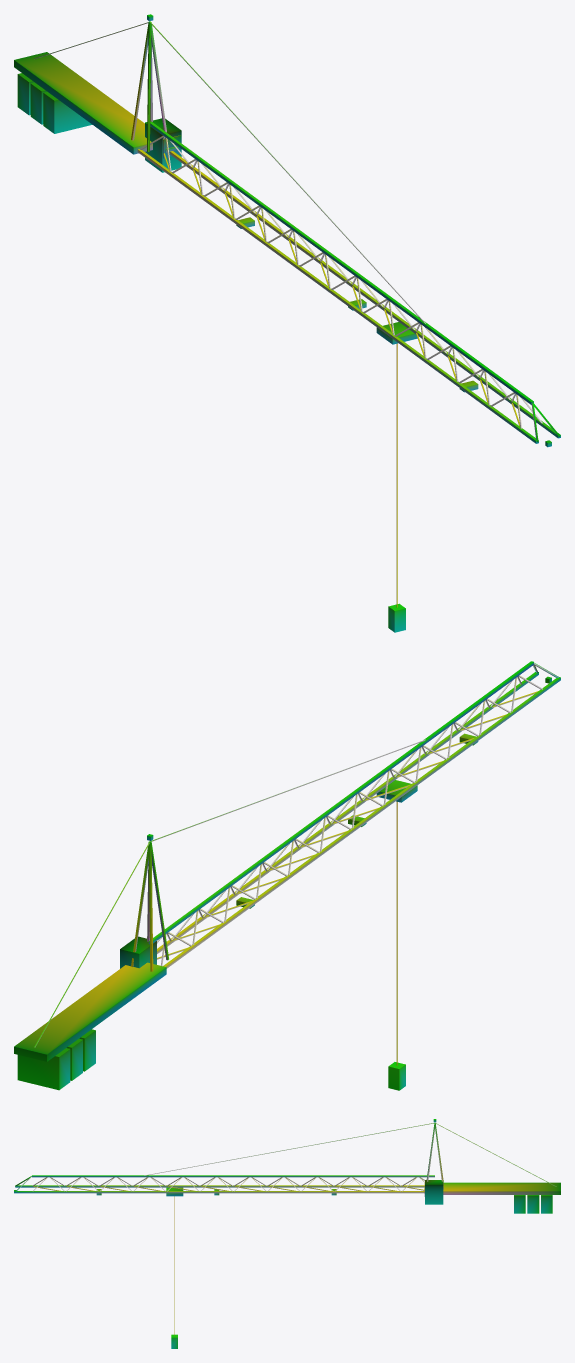
Rendered from Crane_Jib.fbx.
3 renders of one model, top to bottom at view 1: azimuth 30°, elevation 25°; view 2: azimuth 150°, elevation 25°; view 3: azimuth 270°, elevation 25°, orthographic. The views are drawn at different scales.
Parts seen in each view (by area): view 1: Crane_Jib_LOD0; view 2: Crane_Jib_LOD0; view 3: Crane_Jib_LOD0.
Boxes of the visible parts, box(x1,y1,x2,y2) form: Crane_Jib_LOD0: box(14, 14, 560, 632); Crane_Jib_LOD0: box(14, 661, 560, 1090); Crane_Jib_LOD0: box(14, 1119, 560, 1348).
Size of what is drawn, in the model's own units: 3.1 by 29.95 by 65.15.
